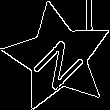N_NE: (26, 25, 91, 90)
